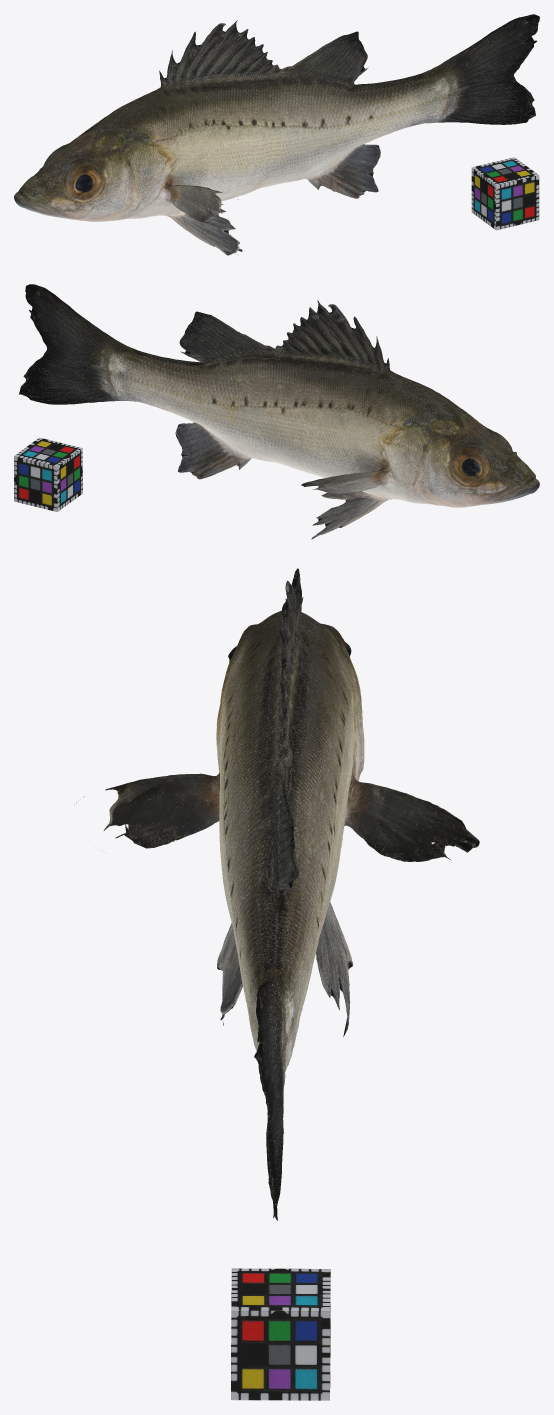
The model's file is suzuki-945faba0138a.glb.
3 views of the same model, one above another, from view 1: azimuth 30°, elevation 25°; view 2: azimuth 150°, elevation 25°; view 3: azimuth 270°, elevation 25° (orthographic). The views are drawn at different scales.
Visible parts, largest first — view 1: Q11226-1all.001_5, Cube_2; view 2: Q11226-1all.001_5, Cube_2; view 3: Q11226-1all.001_5, Cube_2.
Boxes of the visible parts, x1,y1,x2,y2 form: Q11226-1all.001_5: (14, 14, 539, 255); Cube_2: (471, 157, 539, 230); Q11226-1all.001_5: (19, 284, 539, 539); Cube_2: (14, 437, 82, 511); Q11226-1all.001_5: (74, 568, 479, 1220); Cube_2: (231, 1268, 330, 1400).
Bounding box in the file's own units: 10.17 × 4.91 × 3.46.
Materials: 3 (3 with a texture image).
